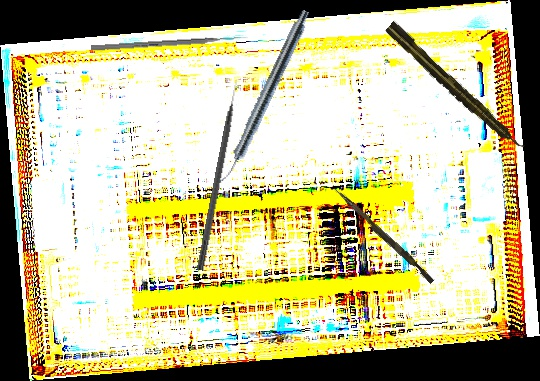Handpiece: (383, 19, 528, 156), (215, 6, 313, 189)
Hook Surgical: (196, 79, 243, 272)
Pusher: (330, 186, 437, 285), (90, 34, 249, 52)
